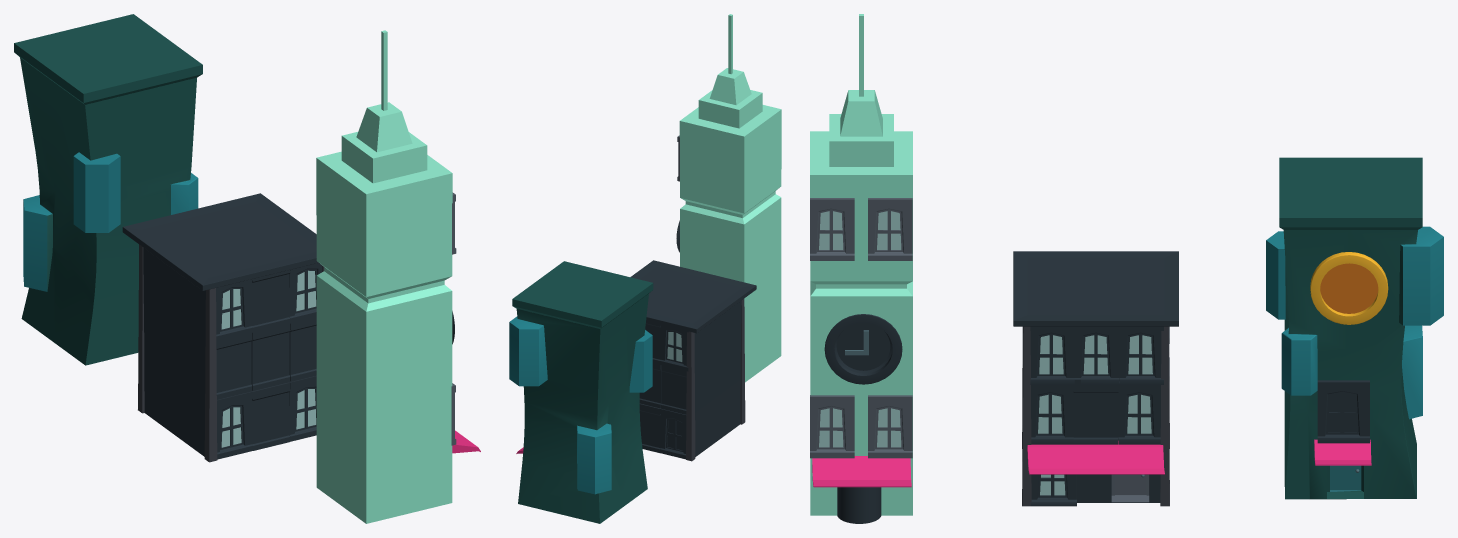
The model's file is buildings.fbx.
3 renders of one model, left to right at view 1: azimuth 30°, elevation 25°; view 2: azimuth 150°, elevation 25°; view 3: azimuth 270°, elevation 25°, orthographic. The views are drawn at different scales.
Visible parts, largest first — view 1: EmpireState, MediumBuilding, SmallBuilding; view 2: MediumBuilding, EmpireState, SmallBuilding; view 3: MediumBuilding, EmpireState, SmallBuilding.
Part boxes in pixels (x1=…): EmpireState: x1=316, y1=30, x2=480, y2=523; MediumBuilding: x1=14, y1=14, x2=202, y2=365; SmallBuilding: x1=122, y1=193, x2=324, y2=462; MediumBuilding: x1=509, y1=261, x2=653, y2=523; EmpireState: x1=676, y1=14, x2=781, y2=382; SmallBuilding: x1=630, y1=260, x2=756, y2=461; MediumBuilding: x1=1266, y1=157, x2=1443, y2=499; EmpireState: x1=810, y1=14, x2=912, y2=523; SmallBuilding: x1=1013, y1=251, x2=1178, y2=506.
Bounding box in the file's own units: 2784 × 950 × 2323.
